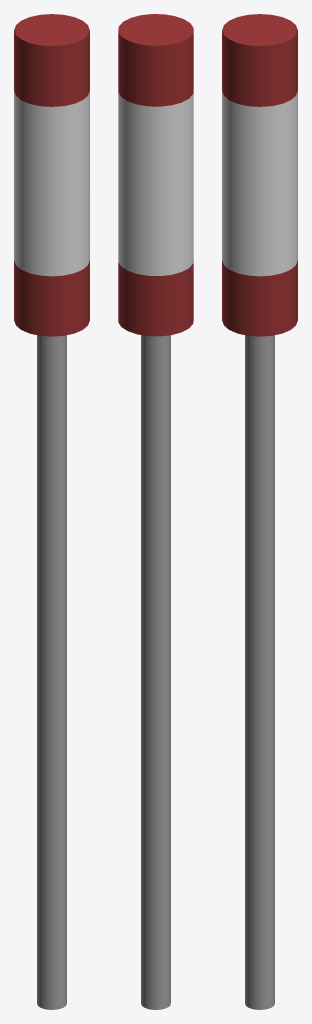
The model's file is Bus_Stop_Model.fbx.
The picture shows the model from 3 angles, left to right: view 1: azimuth 90°, elevation 25°; view 2: azimuth 150°, elevation 25°; view 3: azimuth 270°, elevation 25°; orthographic projection.
Parts seen in each view (by area): view 1: pCylinder1; view 2: pCylinder1; view 3: pCylinder1.
Part boxes in pixels (x1=…): pCylinder1: x1=14, y1=14, x2=89, y2=1009; pCylinder1: x1=118, y1=14, x2=193, y2=1009; pCylinder1: x1=222, y1=14, x2=297, y2=1009.
Size of the model in its own units: 0.701 by 9.89 by 0.6969.
